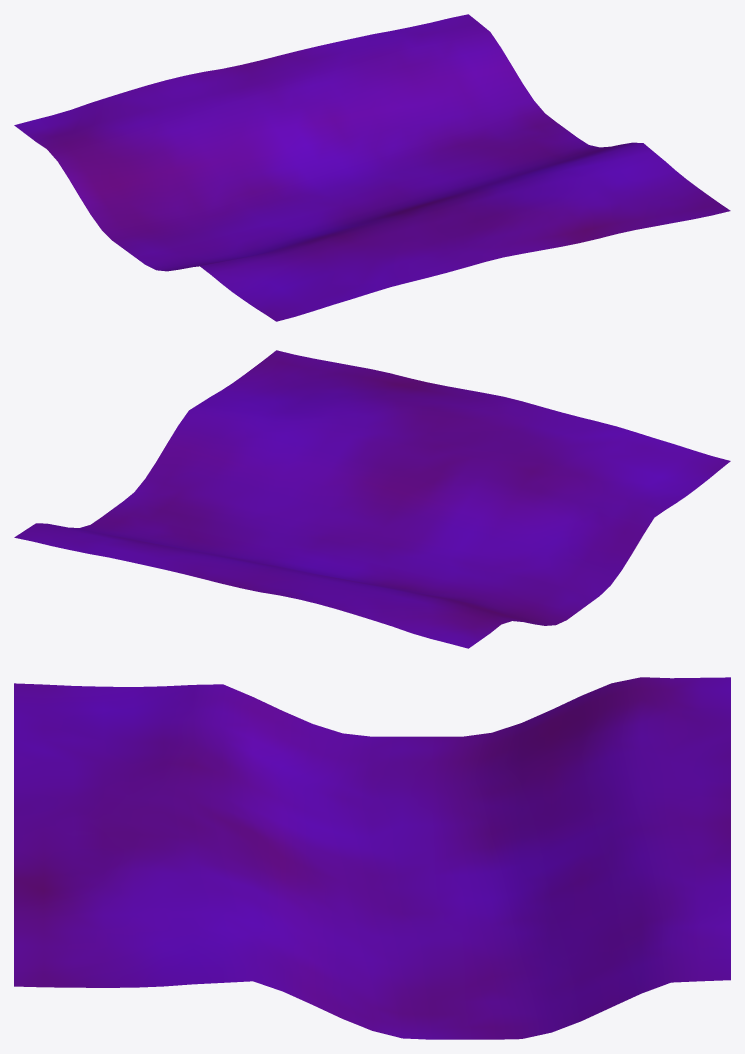
Rendered from ground_54.glb.
3 renders of one model, top to bottom at view 1: azimuth 30°, elevation 25°; view 2: azimuth 150°, elevation 25°; view 3: azimuth 270°, elevation 25°, orthographic. The views are drawn at different scales.
Parts seen in each view (by area): view 1: Ground_54; view 2: Ground_54; view 3: Ground_54.
Part boxes in pixels (x1=…): Ground_54: x1=14, y1=14, x2=730, y2=321; Ground_54: x1=14, y1=350, x2=730, y2=648; Ground_54: x1=14, y1=677, x2=730, y2=1039.
Size of what is drawn, in the model's own units: 24 by 2.59 by 24.
